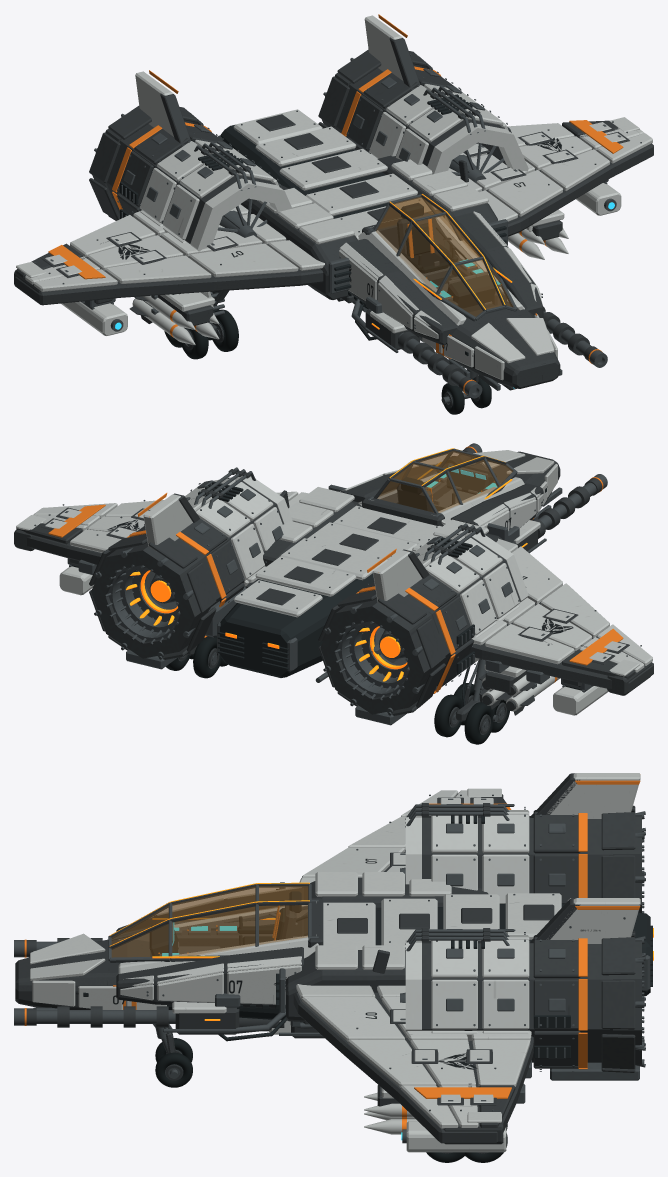
Rendered from 06_BRV7_Bulldog.glb.
3 renders of one model, top to bottom at view 1: azimuth 30°, elevation 25°; view 2: azimuth 150°, elevation 25°; view 3: azimuth 270°, elevation 25°, orthographic. The views are drawn at different scales.
Visible parts, largest first — view 1: hull_main_mesh, wing_L_mesh, engine_L_mesh, nose_section_mesh, engine_R_mesh, wing_R_mesh, cockpit_canopy_mesh, cockpit_tub_mesh, cannon_main_mesh, missile_pod_L_mesh, canopy_frame_mesh, cockpit_seat_mesh (+7 smaller); view 2: engine_L_mesh, engine_R_mesh, hull_main_mesh, wing_L_mesh, wing_R_mesh, nose_section_mesh, cockpit_canopy_mesh, cockpit_tub_mesh, landinggear_L_mesh, cannon_main_mesh, missile_pod_L_mesh, canopy_frame_mesh (+6 smaller); view 3: engine_R_mesh, wing_R_mesh, engine_L_mesh, hull_main_mesh, nose_section_mesh, cockpit_canopy_mesh, cannon_main_mesh, cockpit_tub_mesh, wing_L_mesh, canopy_frame_mesh, vertical_fin_R_mesh, vertical_fin_L_mesh (+6 smaller).
Part boxes in pixels (box(x1,y1,x2,y2)): hull_main_mesh: box(218, 109, 507, 337); wing_L_mesh: box(14, 204, 324, 307); engine_L_mesh: box(89, 105, 292, 289); nose_section_mesh: box(339, 211, 562, 390); engine_R_mesh: box(318, 49, 528, 183); wing_R_mesh: box(371, 117, 653, 236); cockpit_canopy_mesh: box(376, 197, 513, 316); cockpit_tub_mesh: box(358, 210, 524, 325); cannon_main_mesh: box(351, 293, 607, 398); missile_pod_L_mesh: box(129, 292, 219, 344); canopy_frame_mesh: box(367, 194, 517, 321); cockpit_seat_mesh: box(397, 203, 458, 280); engine_L_mesh: box(318, 523, 528, 725); engine_R_mesh: box(89, 467, 292, 669); hull_main_mesh: box(217, 484, 507, 682); wing_L_mesh: box(468, 538, 653, 695); wing_R_mesh: box(14, 491, 308, 588); nose_section_mesh: box(339, 450, 562, 530); cockpit_canopy_mesh: box(377, 451, 512, 512); cockpit_tub_mesh: box(358, 462, 524, 526); landinggear_L_mesh: box(434, 659, 509, 744); cannon_main_mesh: box(446, 443, 607, 553); missile_pod_L_mesh: box(479, 664, 559, 715); canopy_frame_mesh: box(367, 448, 517, 516); engine_R_mesh: box(400, 928, 645, 1080); wing_R_mesh: box(293, 984, 533, 1144); engine_L_mesh: box(400, 803, 645, 912); hull_main_mesh: box(167, 872, 653, 1028); nose_section_mesh: box(15, 887, 303, 1009); cockpit_canopy_mesh: box(111, 886, 307, 957); cannon_main_mesh: box(14, 938, 286, 1041); cockpit_tub_mesh: box(118, 898, 323, 973); wing_L_mesh: box(299, 788, 511, 882); canopy_frame_mesh: box(108, 882, 318, 962); vertical_fin_R_mesh: box(530, 898, 640, 943); vertical_fin_L_mesh: box(530, 773, 640, 818).
Bounding box in the file's own units: 11.4 × 3.8 × 9.2.
10 materials, 4 textured.
